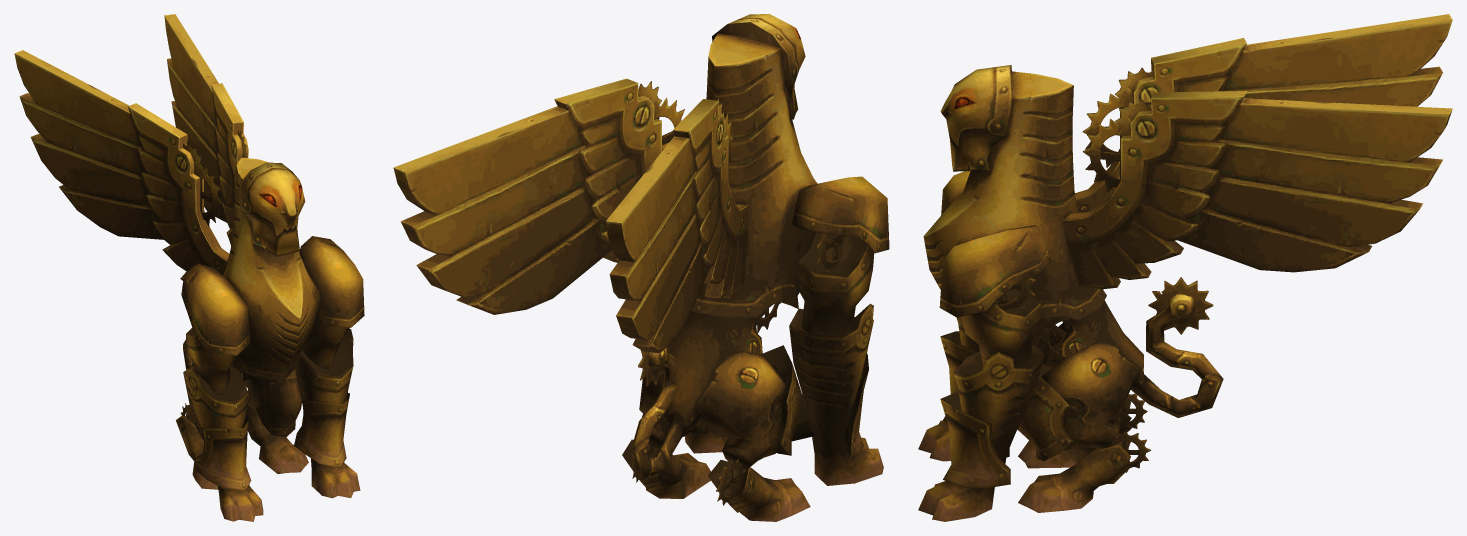
Rendered from desert_sphinx_01_28378aa7.glb.
The picture shows the model from 3 angles, left to right: view 1: azimuth 30°, elevation 25°; view 2: azimuth 150°, elevation 25°; view 3: azimuth 270°, elevation 25°; orthographic projection. The views are drawn at different scales.
Size of the model in its own units: 3.15 by 6.08 by 7.09.
1 material, 1 textured.
